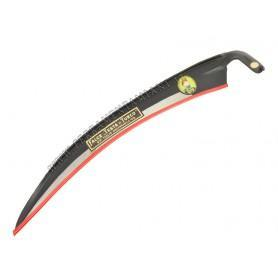espada: (11, 45, 271, 234)
